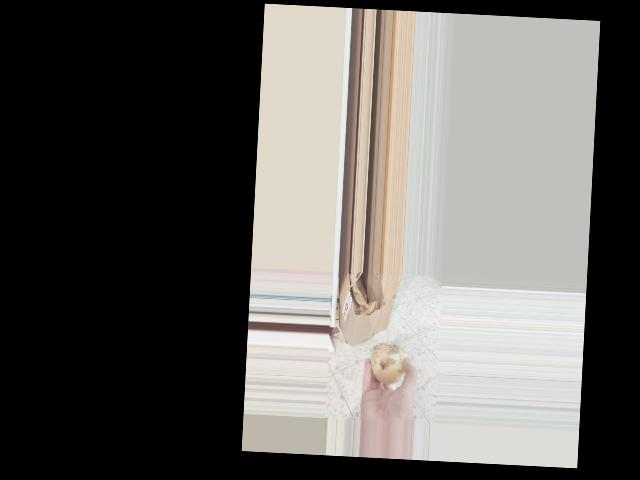onion: (368, 342, 415, 388)
